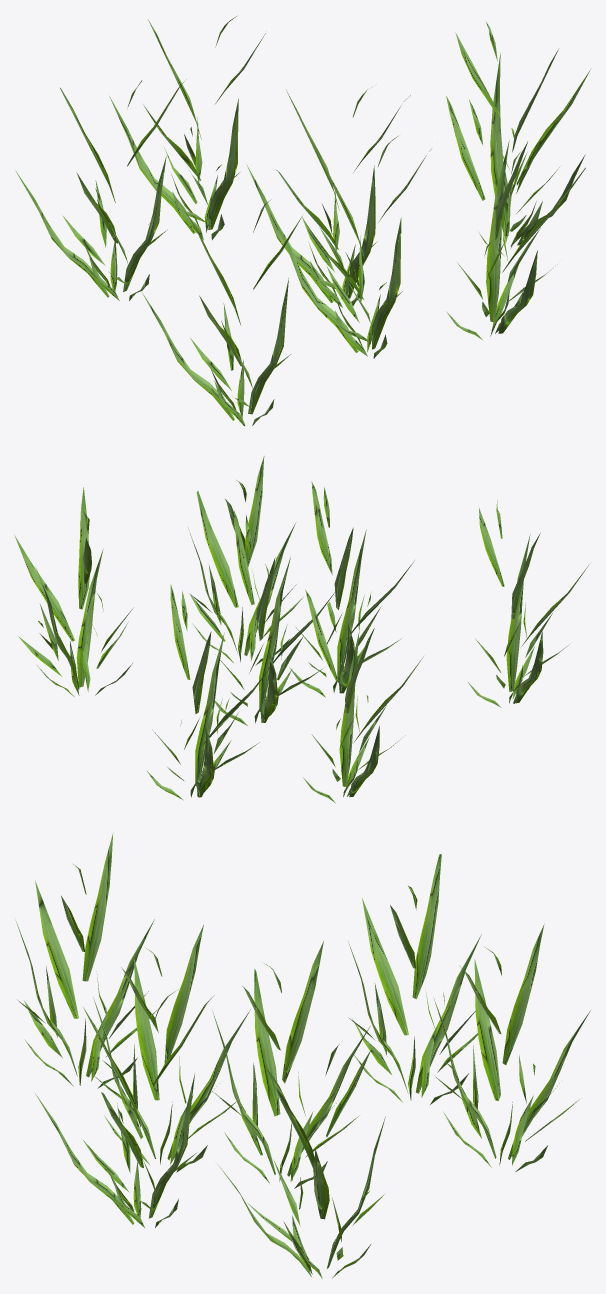
The model's file is meadow_herb_tuft_a.glb.
The picture shows the model from 3 angles, top to bottom: view 1: azimuth 30°, elevation 25°; view 2: azimuth 150°, elevation 25°; view 3: azimuth 270°, elevation 25°; orthographic projection. The views are drawn at different scales.
Parts seen in each view (by area): view 1: meadow_herb_tuft_a; view 2: meadow_herb_tuft_a; view 3: meadow_herb_tuft_a.
Boxes of the visible parts, x1=… form: meadow_herb_tuft_a: x1=15, y1=16, x2=591, y2=426; meadow_herb_tuft_a: x1=14, y1=456, x2=590, y2=803; meadow_herb_tuft_a: x1=15, y1=833, x2=590, y2=1278.
Bounding box in the file's own units: 1.1 × 0.4511 × 0.9929.
Materials: 1 (1 with a texture image).
